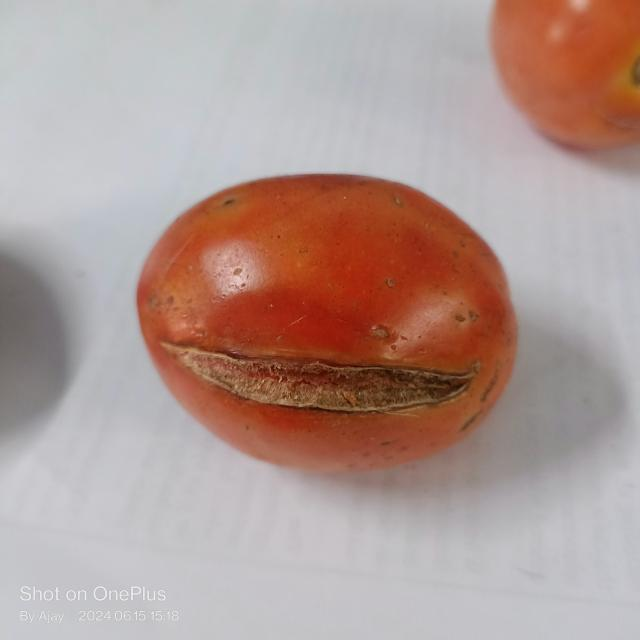tomato_cracking: (181, 342, 481, 412)
